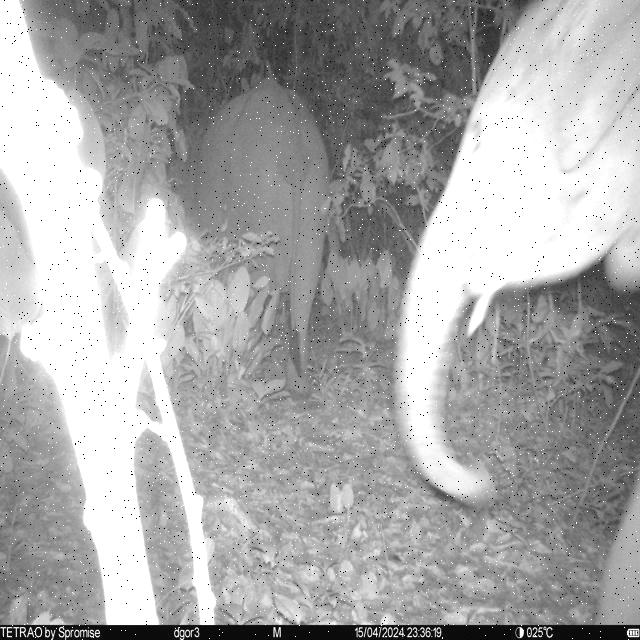ear: (562, 2, 638, 174)
elephant: (391, 0, 640, 625), (194, 76, 330, 402)
tusk: (466, 291, 496, 343)
